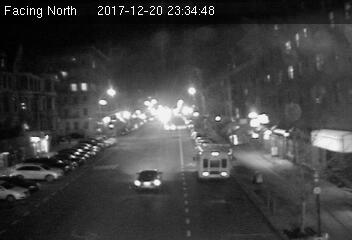car: (133, 167, 165, 192)
truck: (194, 147, 230, 181)
